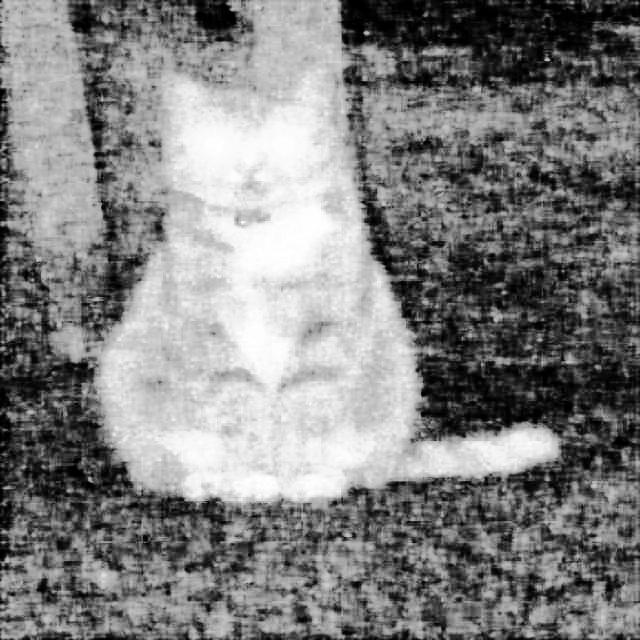Cat: (105, 51, 562, 514)
